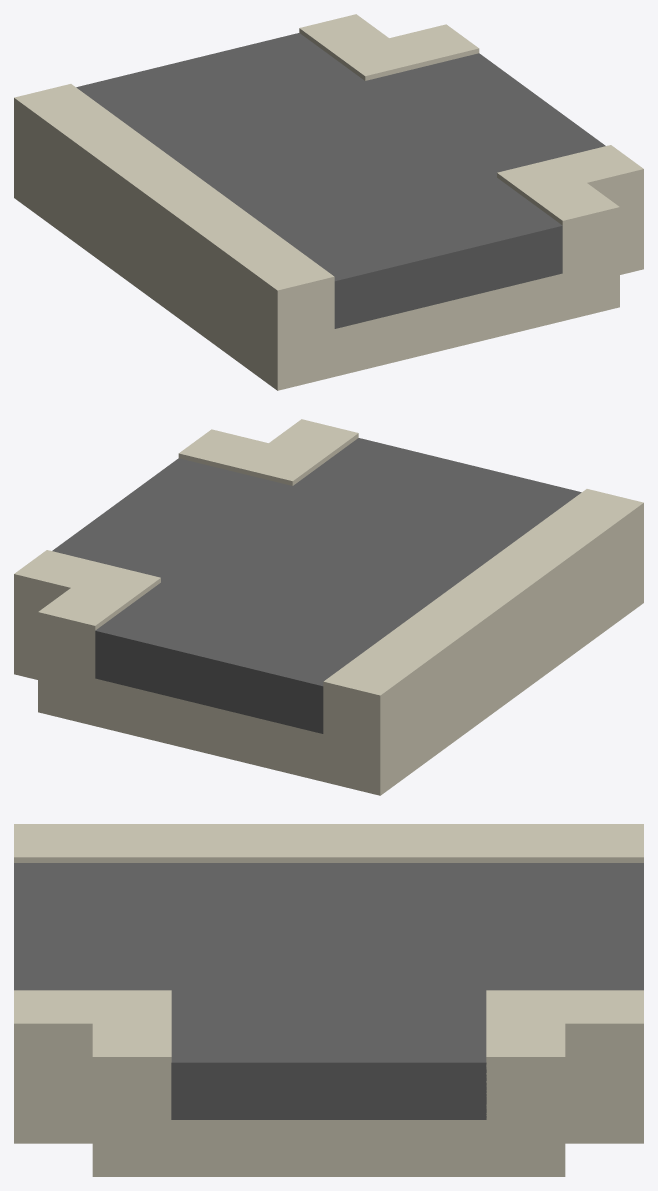
File: tile181.dae
The picture shows the model from 3 angles, top to bottom: view 1: azimuth 30°, elevation 25°; view 2: azimuth 150°, elevation 25°; view 3: azimuth 270°, elevation 25°; orthographic projection. The views are drawn at different scales.
Parts seen in each view (by area): view 1: tile181; view 2: tile181; view 3: tile181.
Boxes of the visible parts, <box> form: tile181: <box>14,14,643,390</box>; tile181: <box>14,419,643,795</box>; tile181: <box>14,824,643,1176</box>.
Bounding box in the file's own units: 0.875 × 0.21 × 1.
